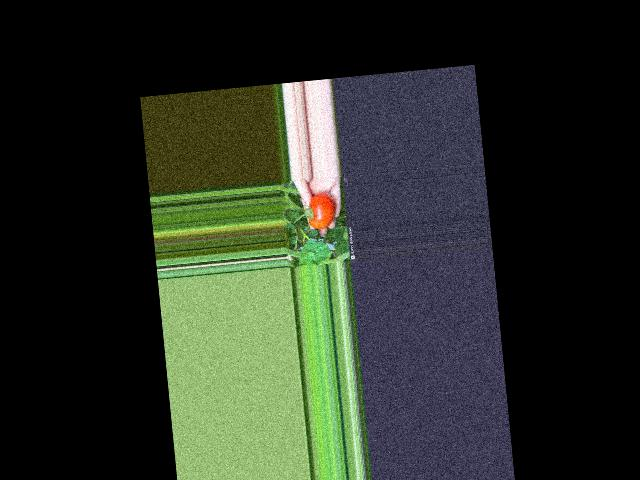tomato: (306, 191, 337, 229)
